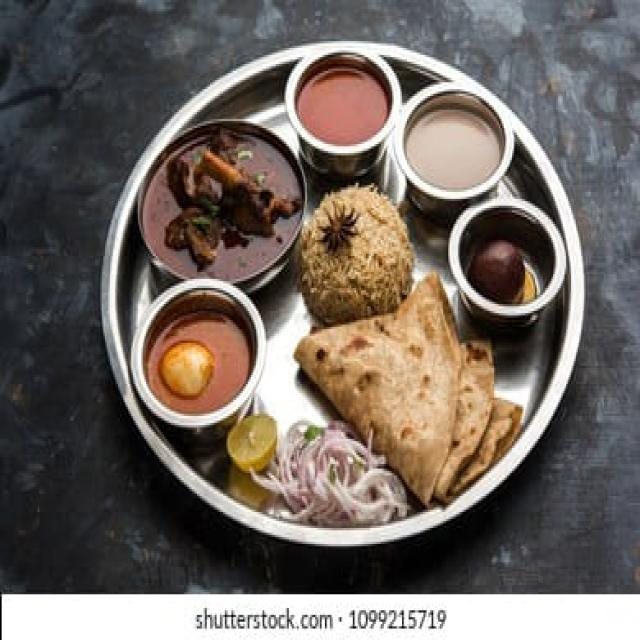non veg meals: (112, 35, 586, 548)
